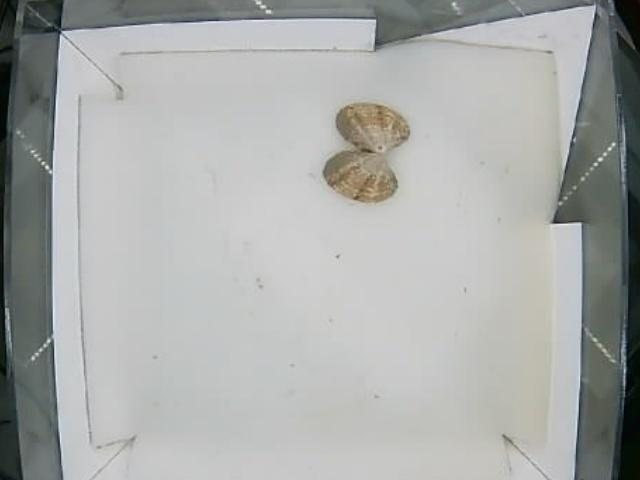Shell: (323, 103, 408, 203)
